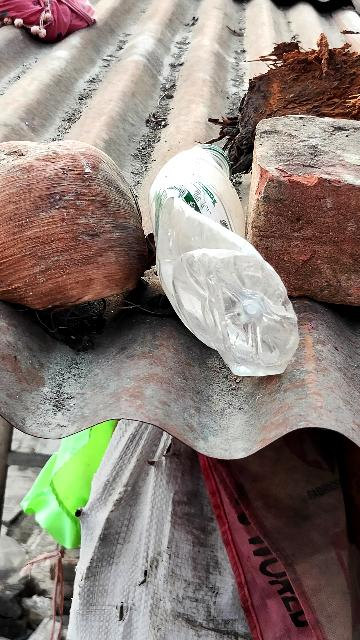bottle: (127, 129, 311, 376)
